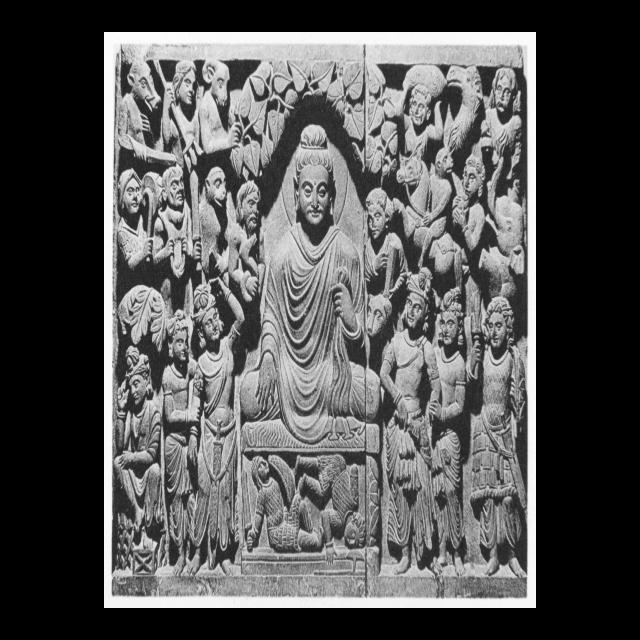buddha-sitting: (240, 124, 380, 444)
